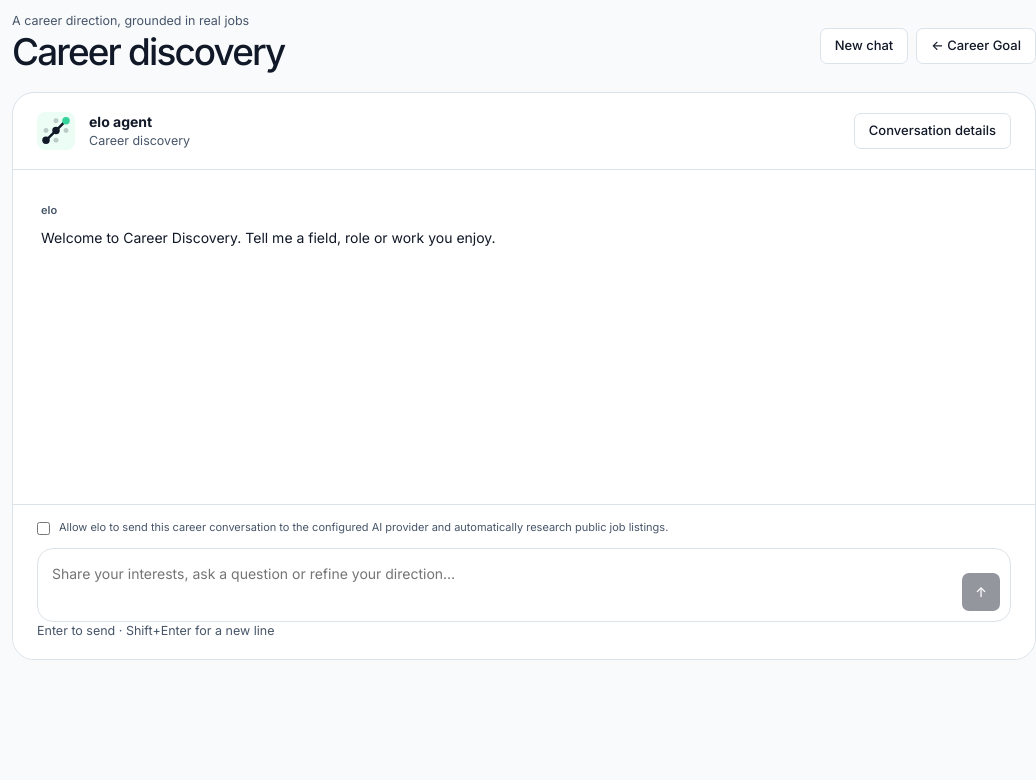
Test: renders bundled clarification as questions without the repeated preface
Expected: the text "Welcome to Career Discovery. Tell me a field, role or work you enjoy." is shown, [41, 229, 496, 246]
Click the checkbox labelled "Allow elo": (44, 528) [37, 521, 50, 536]
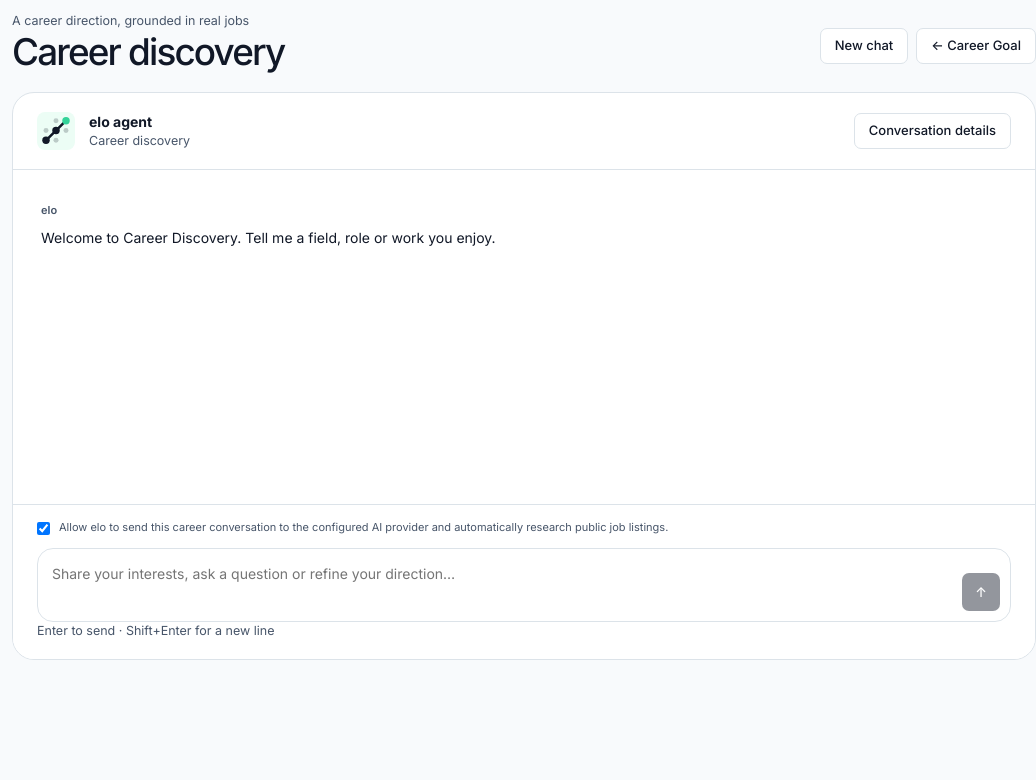
Replace the text in the text box named "Message elo" with "Help me explore careers": (500, 585) [48, 558, 952, 611]
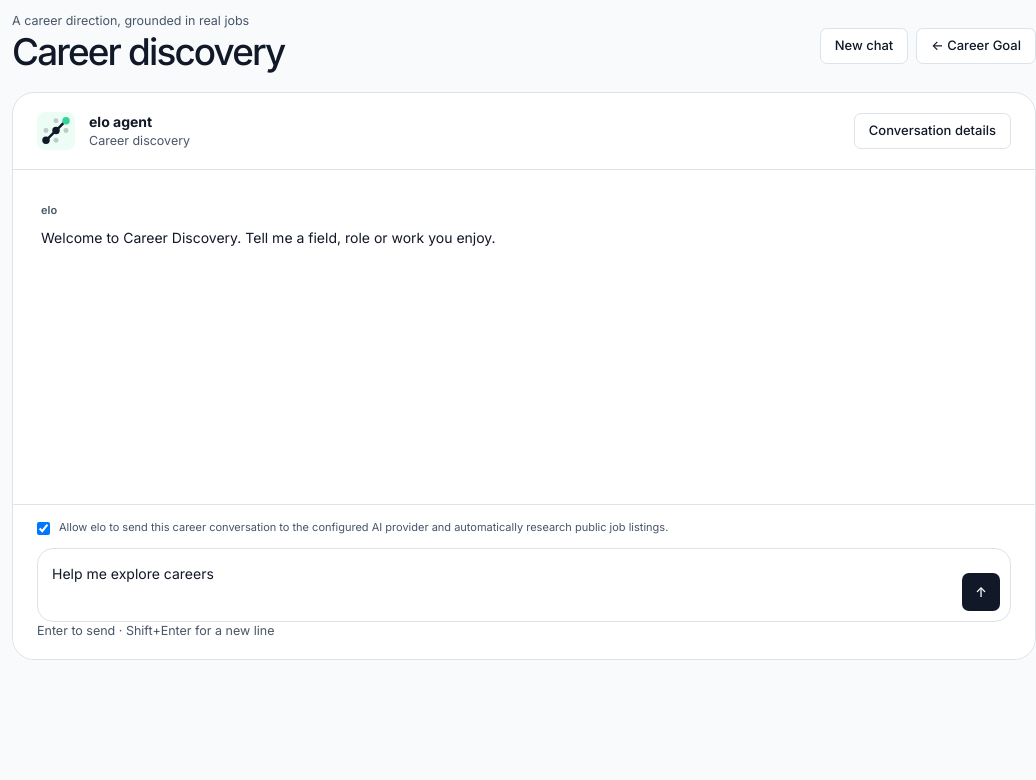
Click the button named "Send message": (981, 592) [962, 573, 1000, 611]
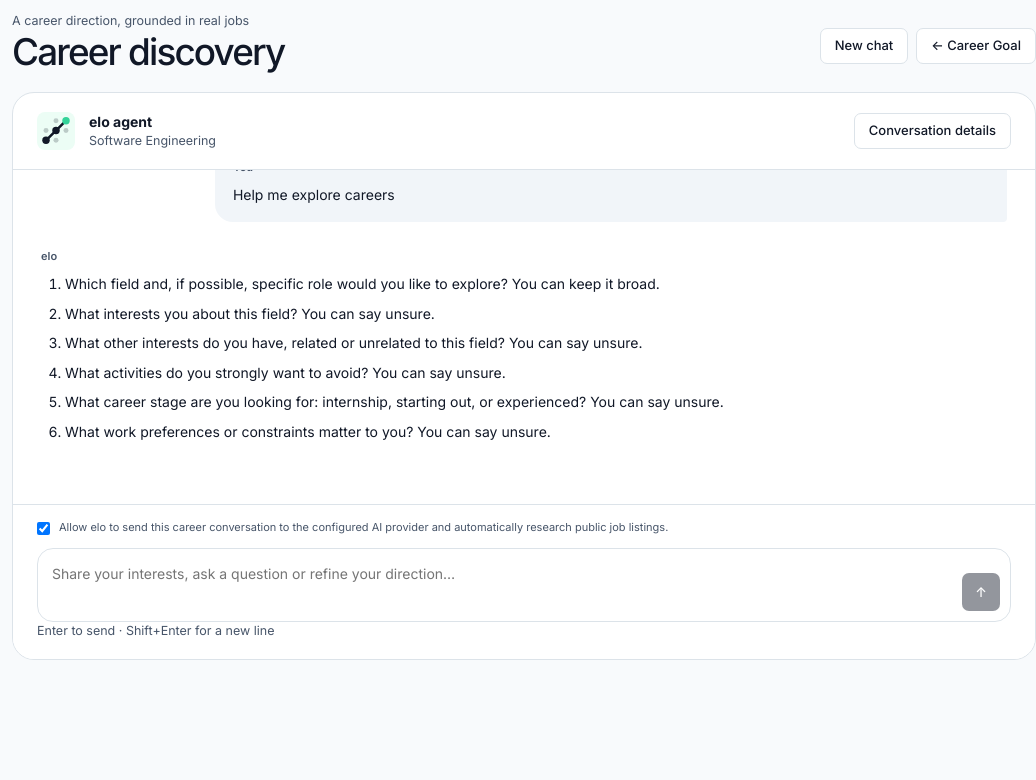
Result: the list item "Which field and, if possible, specific role would you like to explore? You can keep it broad." is shown at [65, 275, 660, 292]
Result: the number of list items is 6 at [65, 275, 660, 292]; [65, 305, 435, 322]; [65, 334, 642, 351]; [65, 364, 506, 381]; [65, 390, 833, 415]; [65, 423, 551, 440]
Result: the text box named "Message elo" is empty at [48, 558, 952, 611]
